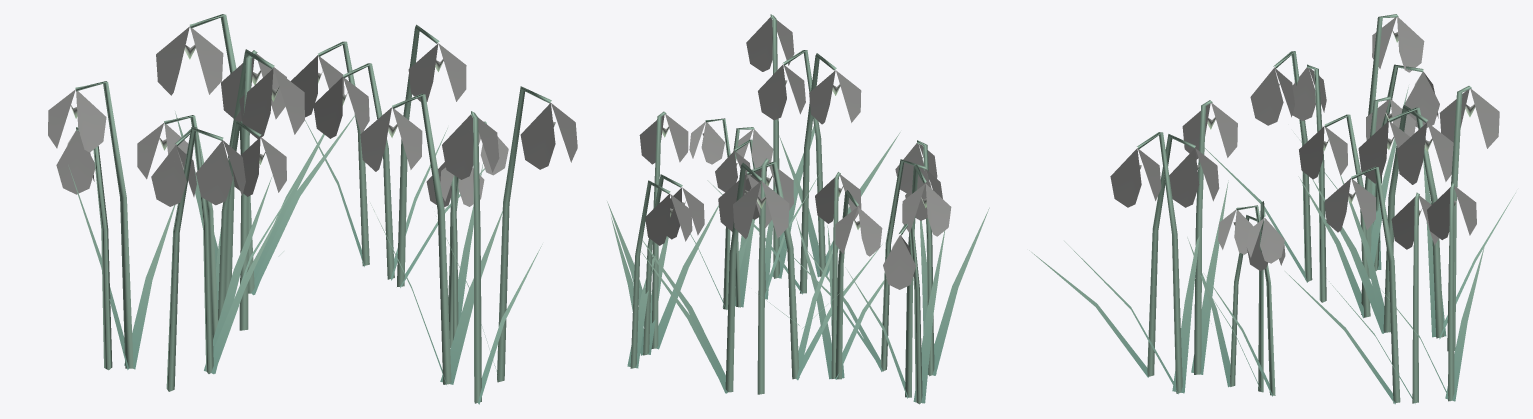
The model's file is snowdrop_patch_a.glb.
3 views of the same model, side by side, from view 1: azimuth 30°, elevation 25°; view 2: azimuth 150°, elevation 25°; view 3: azimuth 270°, elevation 25° (orthographic). The views are drawn at different scales.
Visible parts, largest first — view 1: soft; view 2: soft; view 3: soft.
Boxes of the visible parts, <box> form: soft: <box>48,14,577,404</box>; soft: <box>607,14,989,404</box>; soft: <box>1029,14,1515,404</box>.
Size of the model in its own units: 0.4762 by 0.2823 by 0.4736.
